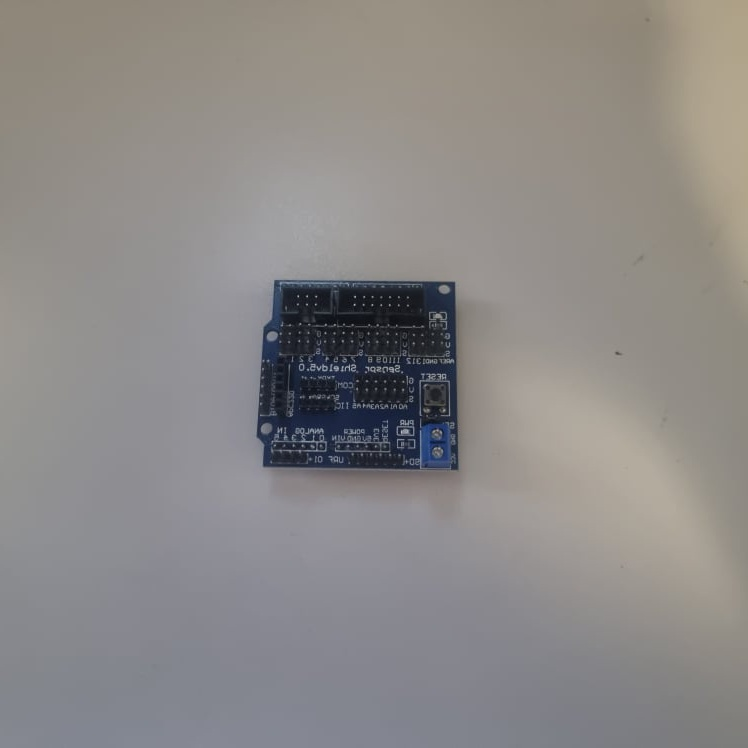5V EXPANSION: (251, 278, 458, 473)
